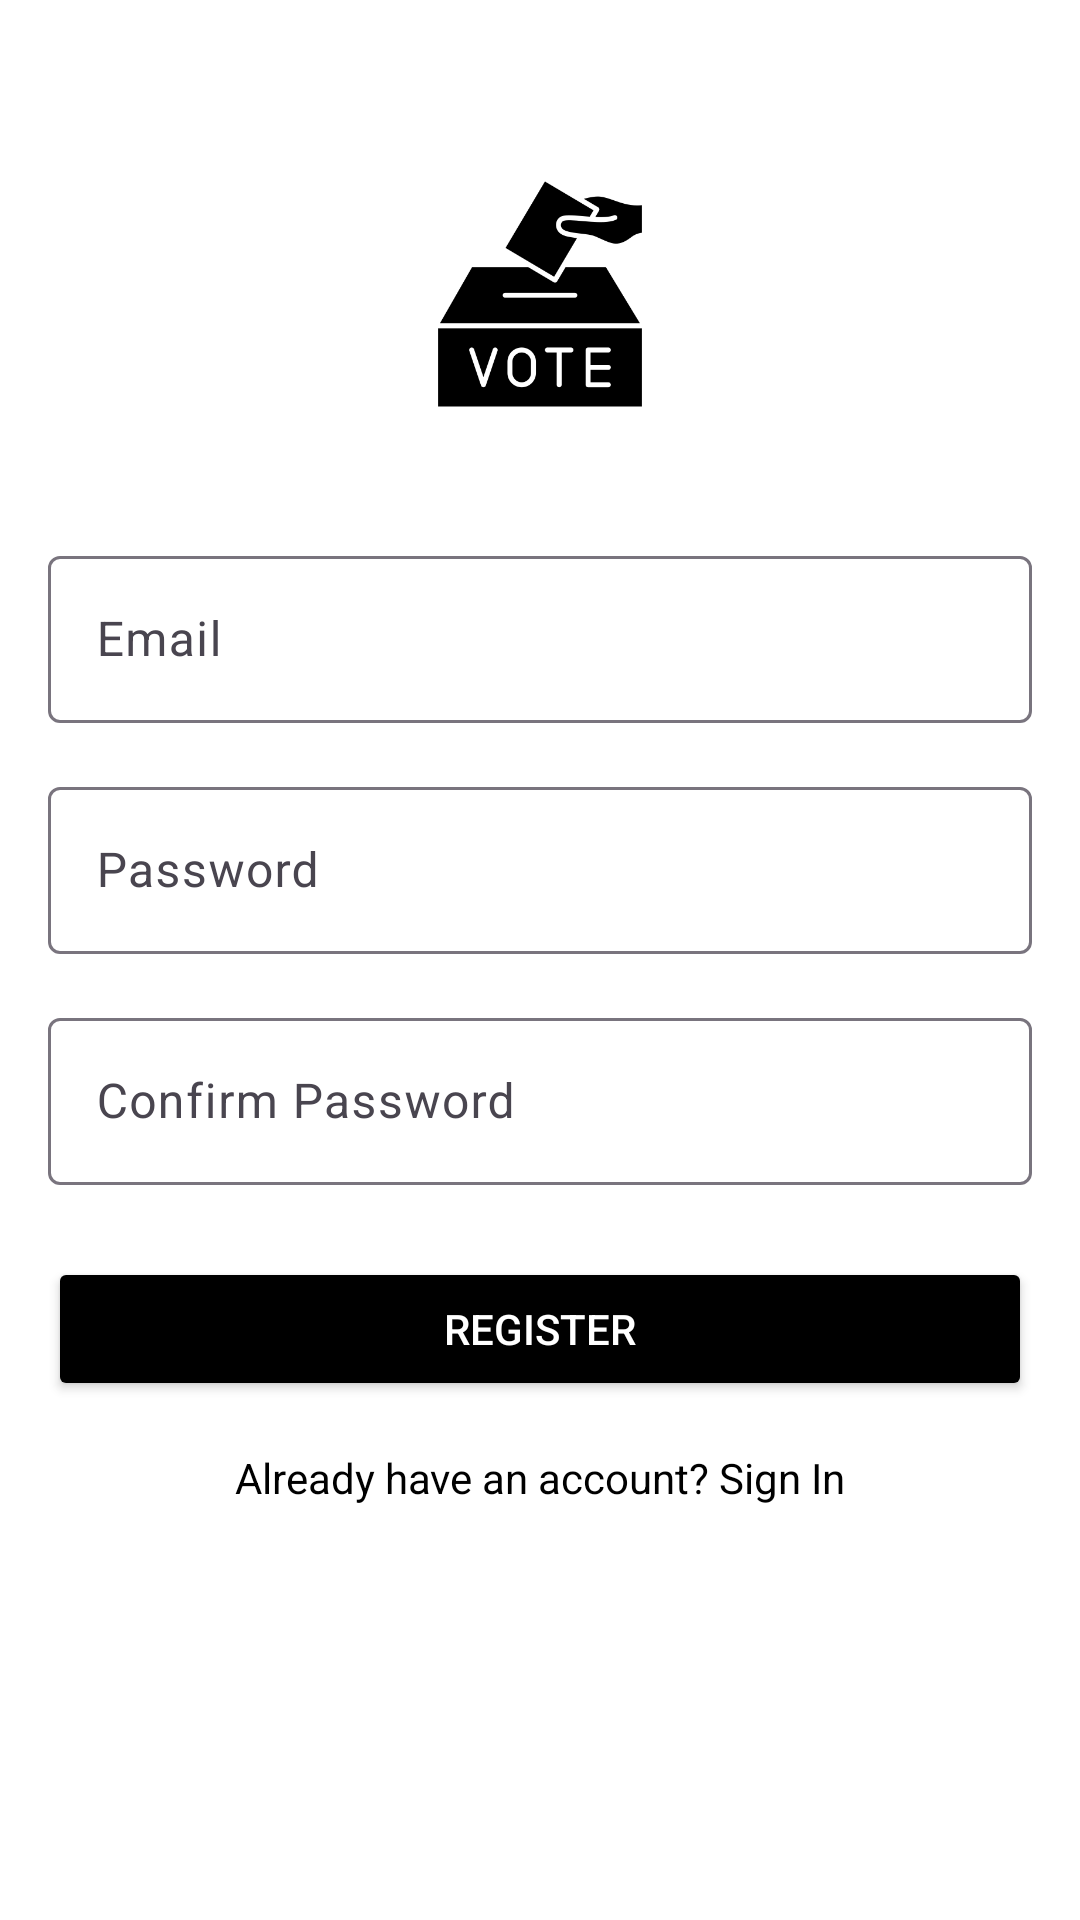

Icon bounding boxes for this 1080x1920 phone screenshot, format (x1, y1, x2, y2):
ballot: (438, 181, 642, 407)
